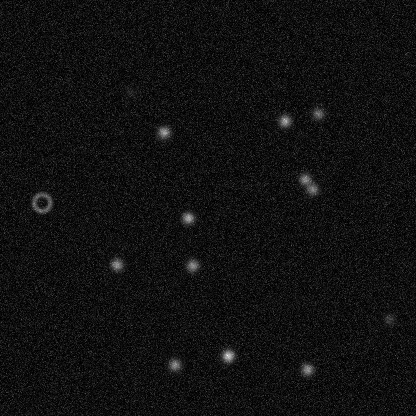Ring: (29, 190, 53, 214)
Spot: (299, 361, 315, 377), (276, 113, 292, 129), (296, 171, 312, 187), (108, 256, 124, 272), (310, 105, 326, 121), (219, 347, 235, 363), (122, 83, 138, 99), (166, 356, 182, 372), (155, 124, 171, 140), (184, 257, 200, 273), (304, 181, 320, 197), (179, 209, 195, 225), (381, 310, 397, 326)
